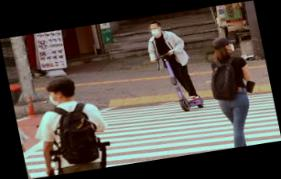nonhelmet: (140, 15, 209, 117)
